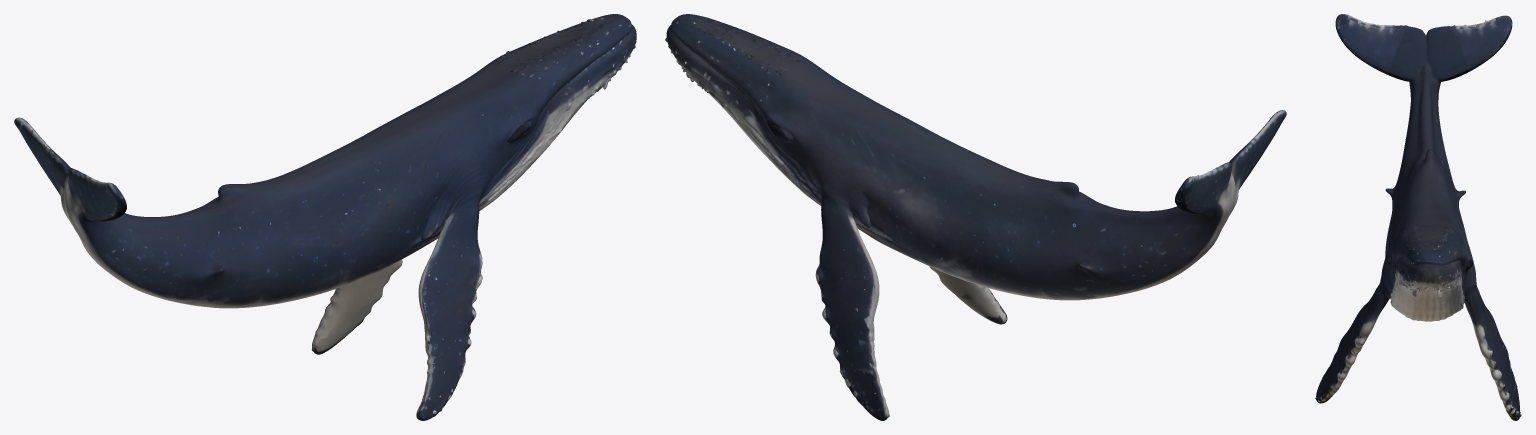
File: HumpbackWhale.glb
The picture shows the model from 3 angles, left to right: view 1: azimuth 30°, elevation 25°; view 2: azimuth 150°, elevation 25°; view 3: azimuth 270°, elevation 25°; orthographic projection. The views are drawn at different scales.
Parts seen in each view (by area): view 1: tripo_node_9399b8c6-aa83-4462-a75b-6955c3a3baff; view 2: tripo_node_9399b8c6-aa83-4462-a75b-6955c3a3baff; view 3: tripo_node_9399b8c6-aa83-4462-a75b-6955c3a3baff.
Boxes of the visible parts, <box> form: tripo_node_9399b8c6-aa83-4462-a75b-6955c3a3baff: <box>14,14,636,420</box>; tripo_node_9399b8c6-aa83-4462-a75b-6955c3a3baff: <box>665,14,1286,420</box>; tripo_node_9399b8c6-aa83-4462-a75b-6955c3a3baff: <box>1315,14,1521,420</box>.
Bounding box in the file's own units: 1 × 0.5267 × 0.3571.
Materials: 1 (1 with a texture image).
